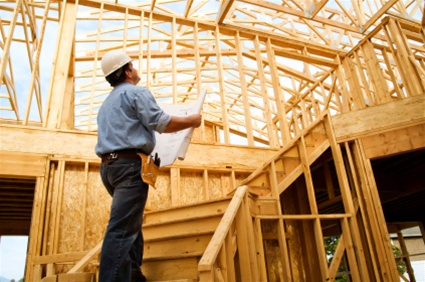epi: (93, 47, 184, 282)
